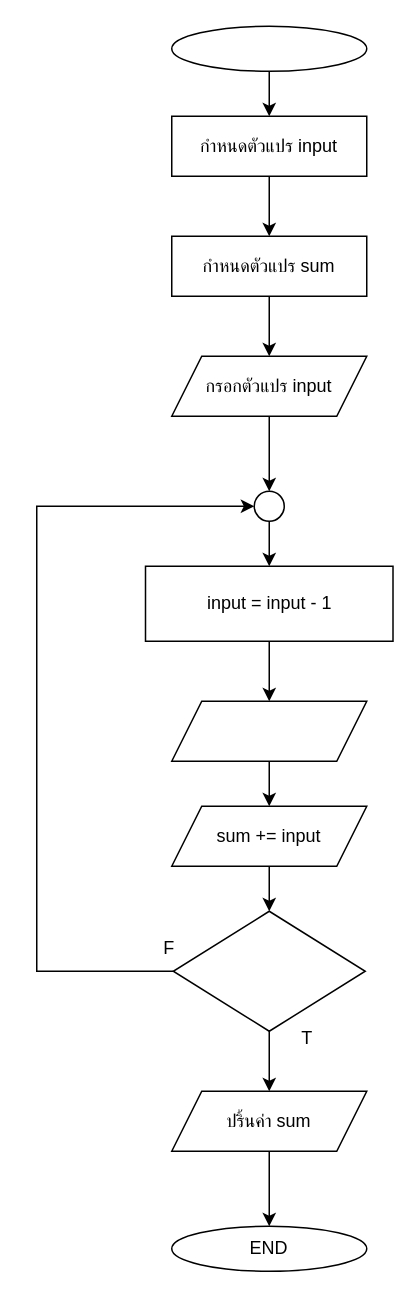
Some shapes in this 420 by 1298 pixel diagram are drawn without their labels. The shapes that lost their labels are listed below. From the top down, each one's box as (x1, y1, x2, y2) in pixels, then its label:
(170, 25, 367, 71): Start
(170, 700, 367, 761): ปริ้นค่า input
(172, 910, 365, 1031): วนครบแล้วหรือไม่
